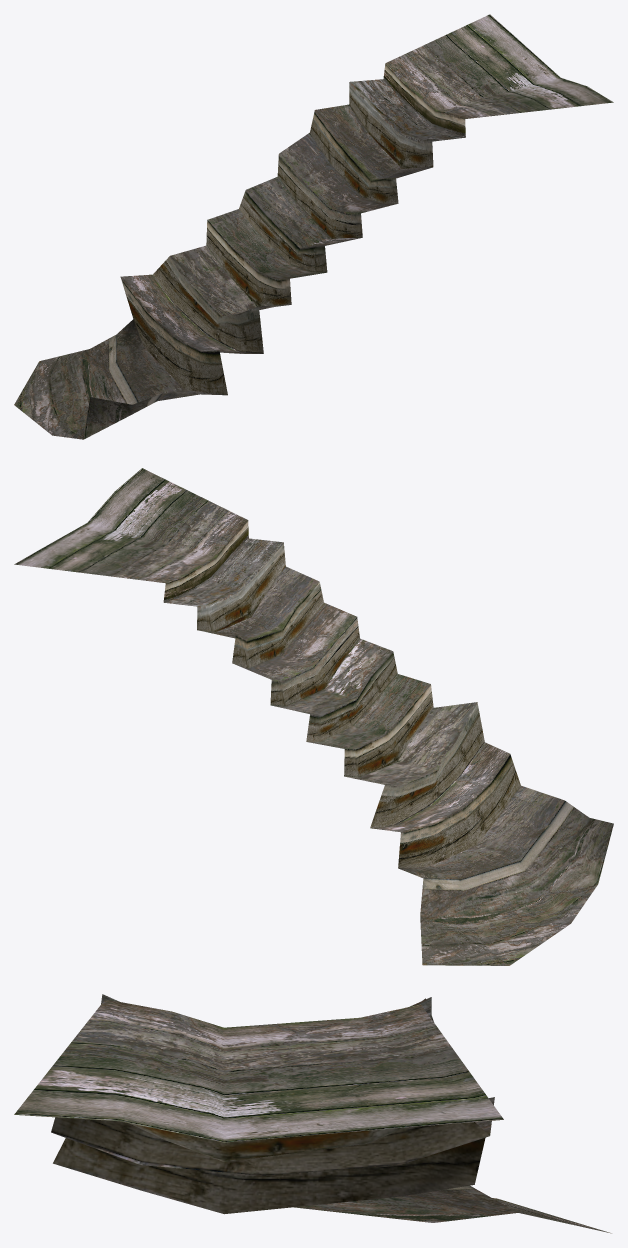
File: tunnels_stairs_entrance02.fbx
3 views of the same model, one above another, from view 1: azimuth 30°, elevation 25°; view 2: azimuth 150°, elevation 25°; view 3: azimuth 270°, elevation 25° (orthographic). The views are drawn at different scales.
Parts seen in each view (by area): view 1: tunnel_stairs_entrance01; view 2: tunnel_stairs_entrance01; view 3: tunnel_stairs_entrance01.
Boxes of the visible parts, x1,y1,x2,y2 form: tunnel_stairs_entrance01: (14,14,613,439); tunnel_stairs_entrance01: (14,468,613,965); tunnel_stairs_entrance01: (14,994,611,1233).
Bounding box in the file's own units: 351 × 189 × 188.
